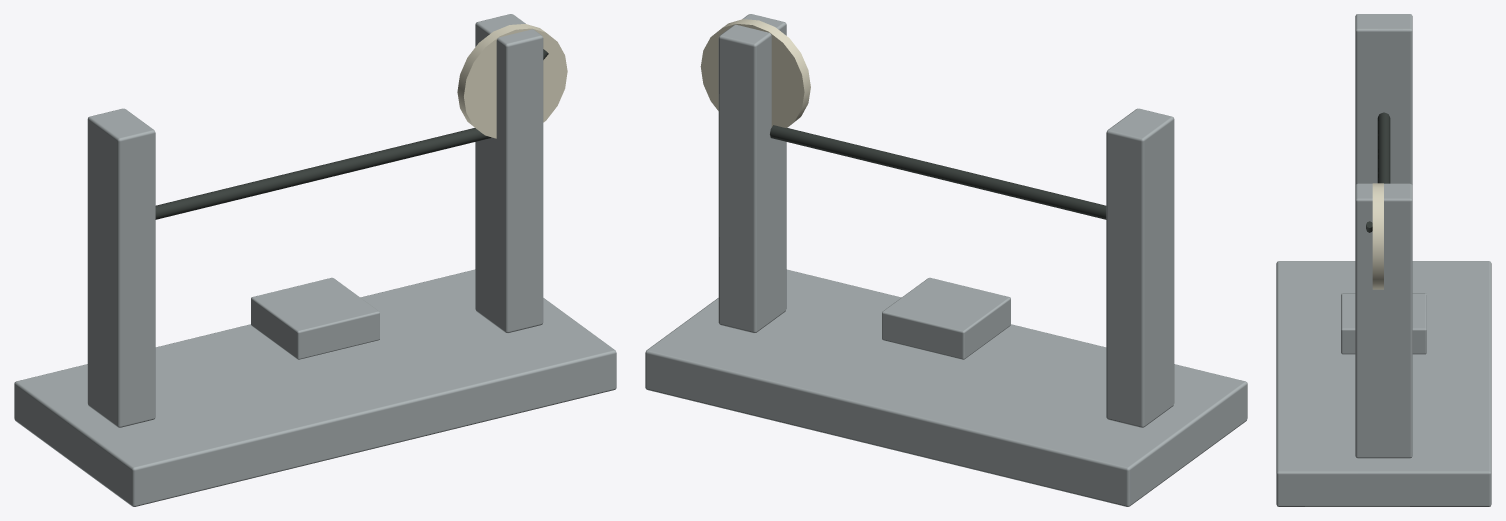
The model's file is research-and-crafting-progression-tension-test-frame-a211b000__2880.glb.
3 renders of one model, left to right at view 1: azimuth 30°, elevation 25°; view 2: azimuth 150°, elevation 25°; view 3: azimuth 270°, elevation 25°, orthographic. The views are drawn at different scales.
Visible parts, largest first — view 1: tension-test-frame; view 2: tension-test-frame; view 3: tension-test-frame.
Boxes of the visible parts, x1,y1,x2,y2 form: tension-test-frame: (14, 14, 616, 506); tension-test-frame: (645, 14, 1247, 506); tension-test-frame: (1276, 14, 1491, 506).
Size of the model in its own units: 0.705 by 0.46 by 0.3.
